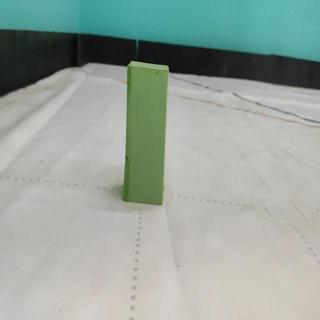greenbox: (121, 58, 168, 209)
